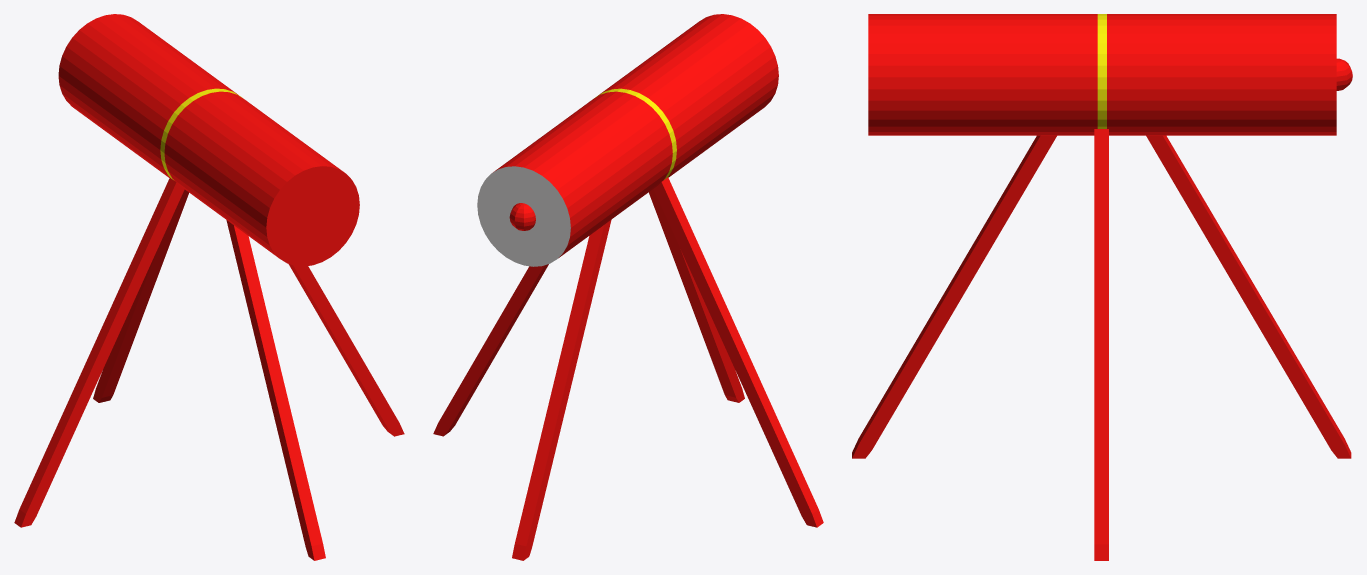
File: laserR.obj
The picture shows the model from 3 angles, left to right: view 1: azimuth 30°, elevation 25°; view 2: azimuth 150°, elevation 25°; view 3: azimuth 270°, elevation 25°; orthographic projection. The views are drawn at different scales.
Visible parts, largest first — view 1: laserY_Конус.020; view 2: laserY_Конус.020; view 3: laserY_Конус.020.
Boxes of the visible parts, <box> form: laserY_Конус.020: <box>14,14,404,560</box>; laserY_Конус.020: <box>433,14,823,560</box>; laserY_Конус.020: <box>852,14,1352,560</box>.
Bounding box in the file's own units: 0.1113 × 0.1073 × 0.1117.
